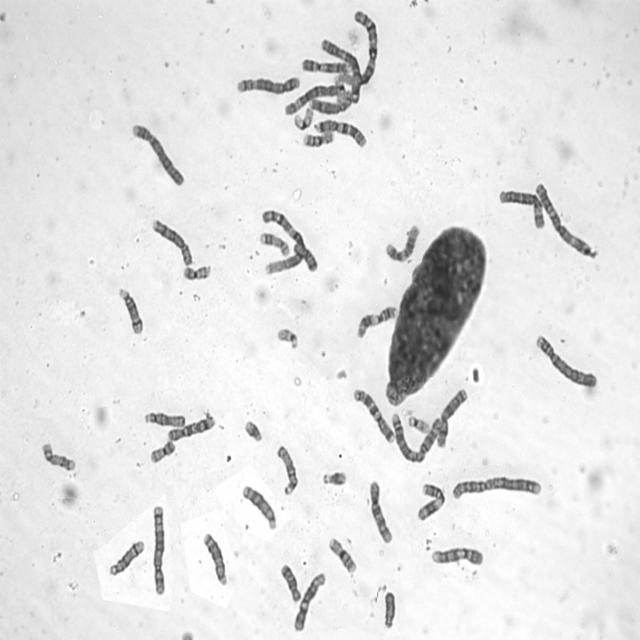A1: (336, 8, 378, 84), (261, 209, 305, 275)
A2: (391, 411, 441, 463), (450, 475, 541, 499)
A3: (534, 181, 598, 261), (319, 36, 361, 106)
B4: (130, 120, 186, 190), (534, 334, 601, 390)
B5: (150, 506, 170, 596), (236, 73, 301, 96)
C10: (368, 481, 392, 544), (167, 414, 216, 440)
C11: (356, 305, 398, 339), (416, 483, 446, 521)
C12: (294, 571, 326, 631), (386, 222, 420, 262)
C6: (499, 188, 545, 229), (284, 85, 337, 117)
C7: (352, 388, 396, 444), (313, 117, 367, 147)
C8: (151, 217, 193, 267), (308, 90, 352, 115)
C9: (431, 547, 484, 566), (300, 57, 352, 75)
D13: (240, 482, 278, 530), (199, 530, 229, 589)
D14: (107, 538, 146, 578), (116, 286, 145, 338)
D15: (274, 444, 300, 496), (144, 410, 186, 428)
E16: (328, 538, 358, 576), (301, 129, 336, 149)
E17: (40, 438, 76, 472), (260, 232, 289, 257)
E18: (280, 563, 301, 601), (292, 243, 318, 273)
F19: (294, 106, 314, 131), (334, 75, 346, 106)
F20: (149, 440, 176, 465), (182, 264, 212, 282)
G21: (318, 464, 353, 489), (241, 416, 267, 444)
G22: (276, 326, 299, 352), (409, 416, 429, 435)
X: (436, 388, 468, 448)
Y: (384, 587, 397, 632)
